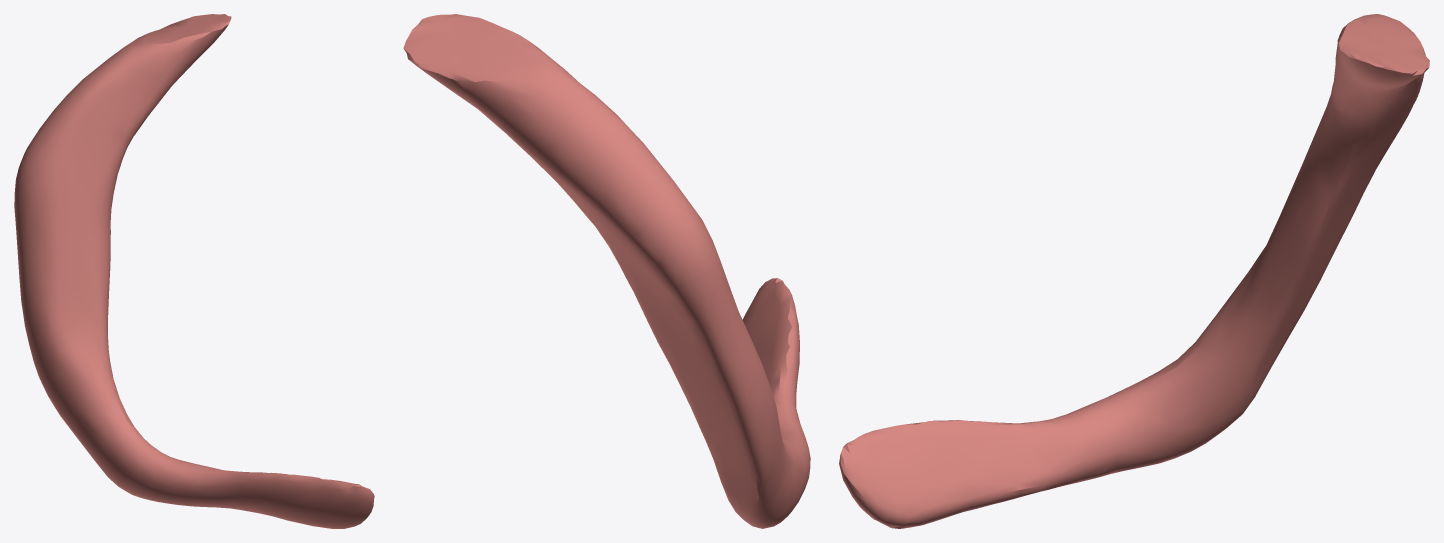
Rendered from fma46709_mm1254m.glb.
3 views of the same model, side by side, from view 1: azimuth 30°, elevation 25°; view 2: azimuth 150°, elevation 25°; view 3: azimuth 270°, elevation 25° (orthographic). The views are drawn at different scales.
Parts seen in each view (by area): view 1: FMA46709_MM1254M; view 2: FMA46709_MM1254M; view 3: FMA46709_MM1254M.
Part boxes in pixels (box(x1,y1,x2,y2)): FMA46709_MM1254M: box(14, 14, 374, 528); FMA46709_MM1254M: box(403, 14, 810, 528); FMA46709_MM1254M: box(839, 14, 1429, 528).
Bounding box in the file's own units: 0.0195 × 0.0314 × 0.0327.
